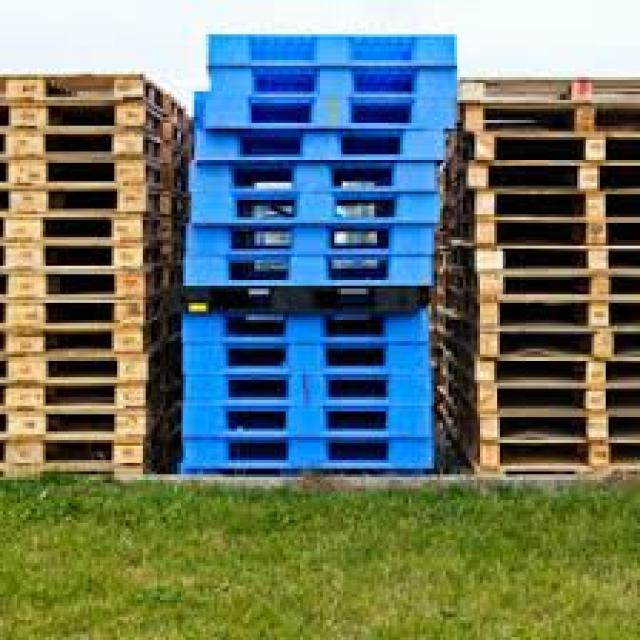Wooden-Pallets: (452, 67, 640, 106), (3, 337, 147, 385), (3, 149, 153, 191), (466, 355, 640, 391), (0, 231, 147, 272), (0, 63, 149, 100), (468, 438, 639, 469), (475, 190, 640, 222), (467, 129, 640, 159), (476, 266, 640, 294)
